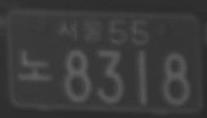1: (126, 48, 157, 107)
3: (95, 48, 126, 106)
5: (107, 17, 130, 46), (129, 18, 151, 48)
8: (159, 49, 192, 107), (62, 48, 93, 104)
노: (17, 48, 54, 83)
서울_O: (57, 16, 105, 44)
